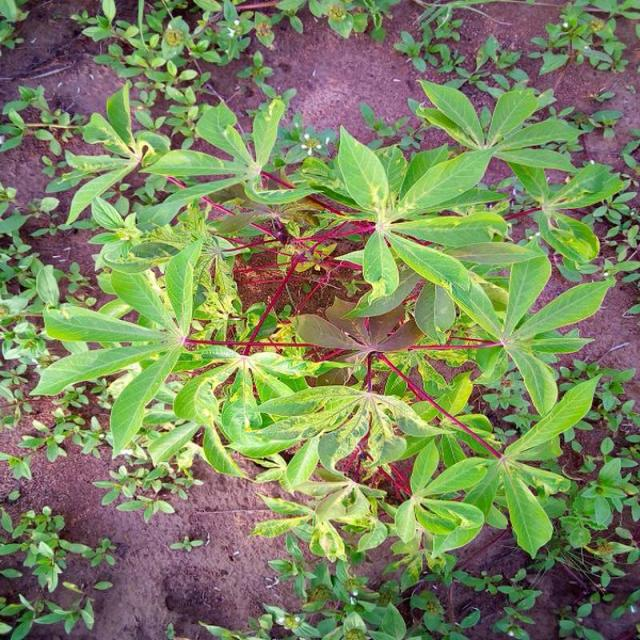cassava leaf: (31, 73, 624, 572)
